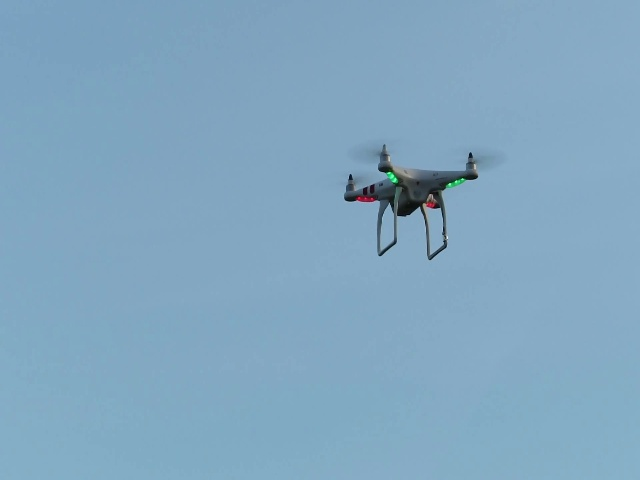drone: (336, 138, 501, 263)
